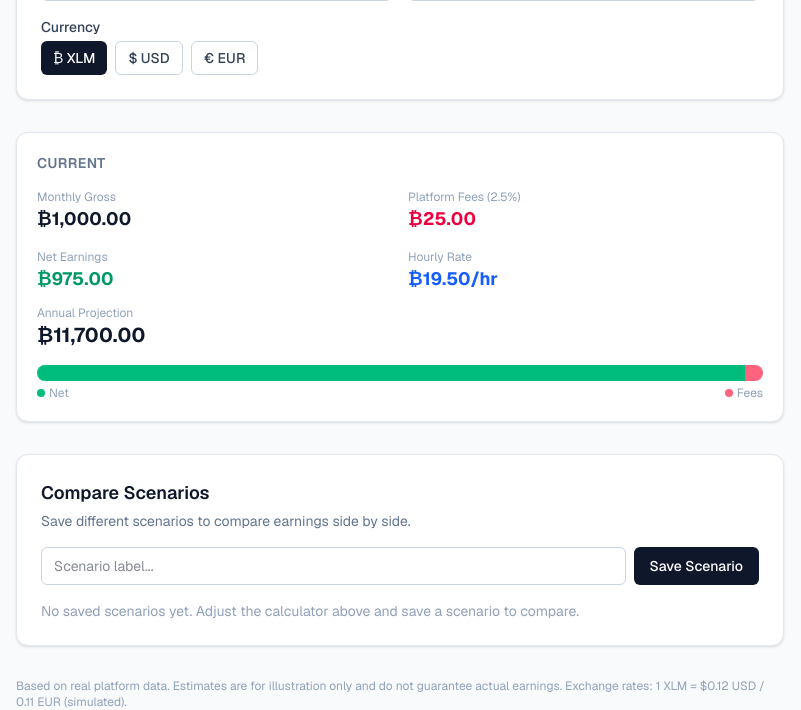
Test case: EarningsEstimatorPage › allows saving and viewing scenarios
(page scrolled)
Step 1. Type "My Scenario" into the field with placeholder "Scenario label..." → (333, 566), box [41, 547, 626, 585]
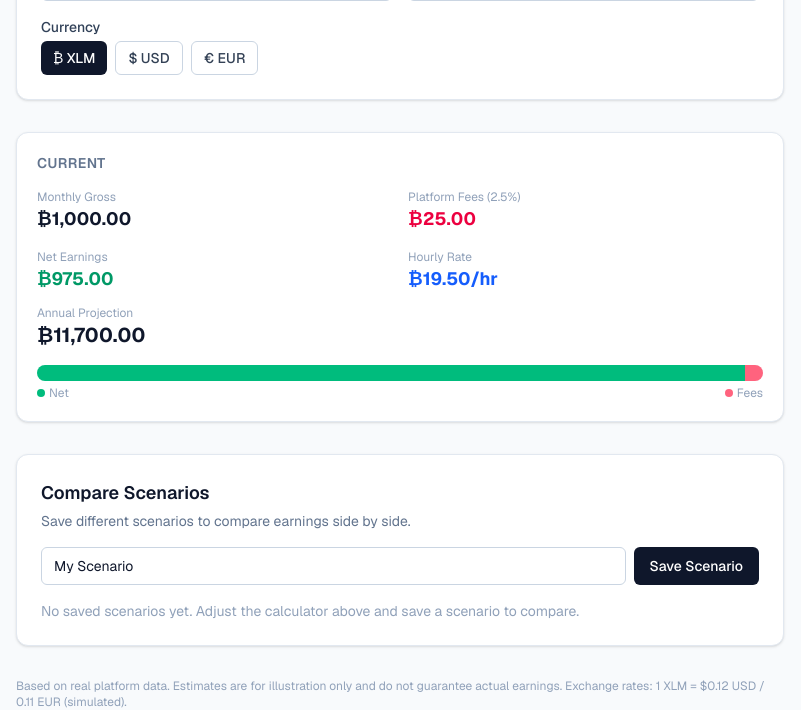
Step 2. Click the button "Save Scenario" → click(696, 566), box [634, 547, 759, 585]
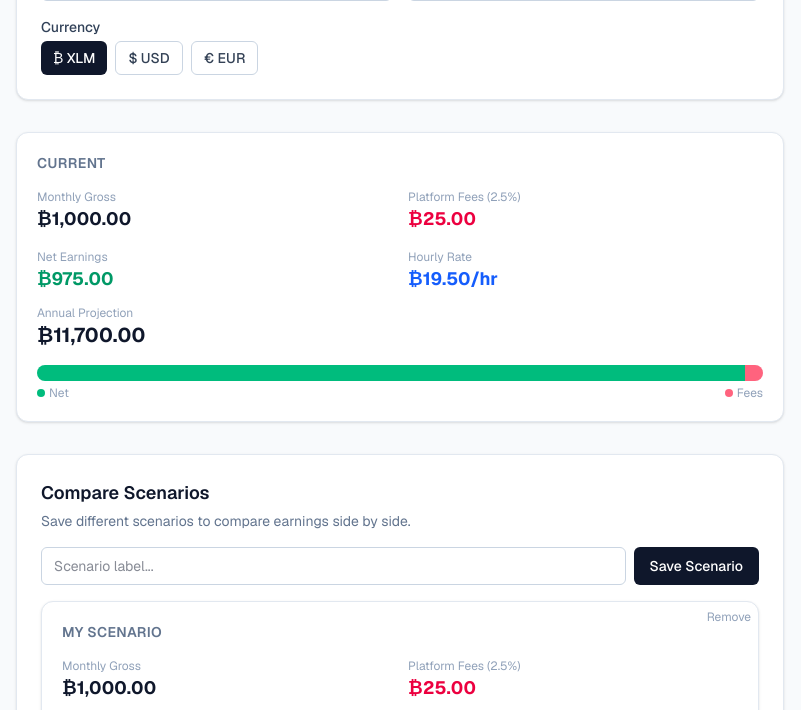
Expected: the heading "My Scenario" is shown, [62, 623, 162, 641]
